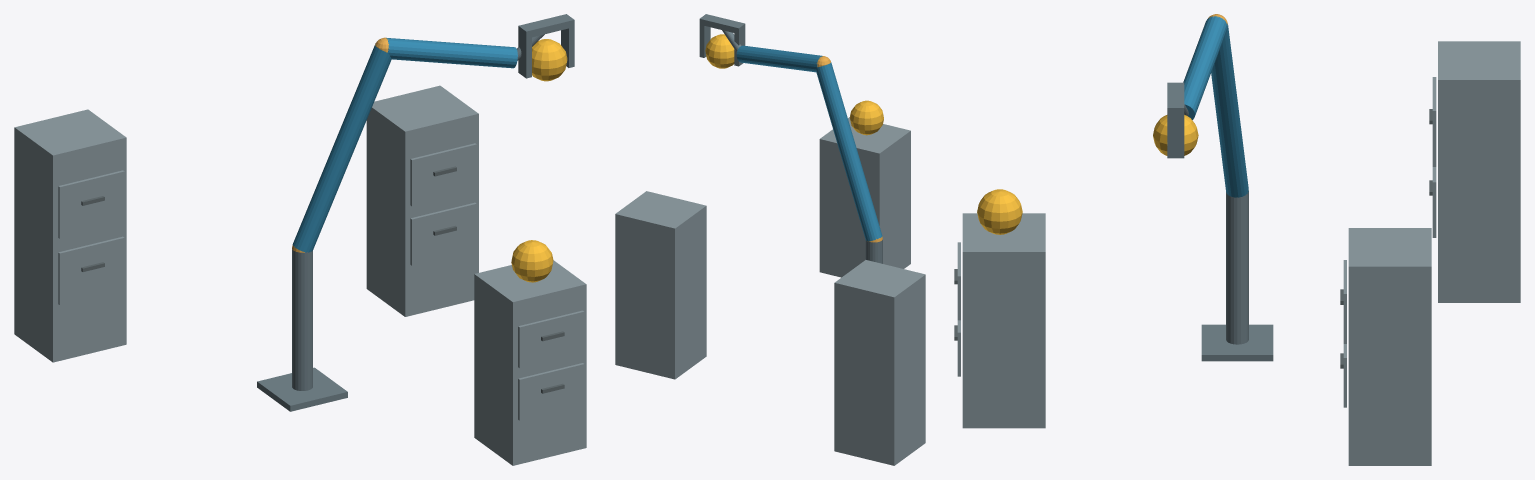
3 renders of one model, left to right at view 1: azimuth 30°, elevation 25°; view 2: azimuth 150°, elevation 25°; view 3: azimuth 270°, elevation 25°, orthographic. The views are drawn at different scales.
Visible parts, largest first — view 1: cabinet_3 body, cabinet_2 body, cabinet_1 body, moving link 1, cabinet_3 drawer front.001, cabinet_3 drawer front, cabinet_2 drawer front.001, cabinet_2 drawer front, fixed post, moving link 2, cabinet_1 drawer front.001, cabinet_1 drawer front (+4 smaller); view 2: cabinet_3 body, cabinet_2 body, cabinet_1 body, moving link 1, moving link 2, released ball_1, ball ball_2, gripper bridge, fixed post; view 3: cabinet_3 body, cabinet_2 body, cabinet_1 body, moving link 1, fixed post, pedestal, moving link 2, released ball_1, ball ball_2, gripper finger 1, gripper bridge.
Part boxes in pixels (bbox=[...]): cabinet_3 body: bbox=[14, 109, 126, 362]; cabinet_2 body: bbox=[366, 85, 478, 316]; cabinet_1 body: bbox=[474, 260, 586, 465]; moving link 1: bbox=[292, 44, 391, 252]; cabinet_3 drawer front.001: bbox=[58, 170, 124, 238]; cabinet_3 drawer front: bbox=[58, 236, 124, 305]; cabinet_2 drawer front.001: bbox=[410, 143, 476, 206]; cabinet_2 drawer front: bbox=[410, 202, 476, 265]; fixed post: bbox=[292, 249, 312, 390]; moving link 2: bbox=[386, 37, 517, 68]; cabinet_1 drawer front.001: bbox=[518, 310, 584, 368]; cabinet_1 drawer front: bbox=[518, 363, 584, 420]; cabinet_3 body: bbox=[834, 260, 925, 465]; cabinet_2 body: bbox=[615, 191, 706, 379]; cabinet_1 body: bbox=[819, 117, 910, 277]; moving link 1: bbox=[816, 62, 882, 241]; moving link 2: bbox=[736, 45, 822, 72]; released ball_1: bbox=[850, 100, 883, 135]; ball ball_2: bbox=[705, 34, 734, 68]; gripper bridge: bbox=[699, 14, 745, 33]; fixed post: bbox=[865, 239, 882, 263]; cabinet_3 body: bbox=[1438, 41, 1520, 302]; cabinet_2 body: bbox=[1348, 228, 1431, 465]; cabinet_1 body: bbox=[962, 213, 1045, 428]; moving link 1: bbox=[1211, 24, 1248, 197]; fixed post: bbox=[1226, 191, 1248, 344]; pedestal: bbox=[1201, 324, 1273, 361]; moving link 2: bbox=[1183, 16, 1227, 119]; released ball_1: bbox=[977, 189, 1022, 234]; ball ball_2: bbox=[1153, 115, 1198, 155]; gripper finger 1: bbox=[1167, 115, 1184, 158]; gripper bridge: bbox=[1167, 82, 1184, 115].
Bounding box in the file's own units: 1.72 × 1.43 × 1.98.
